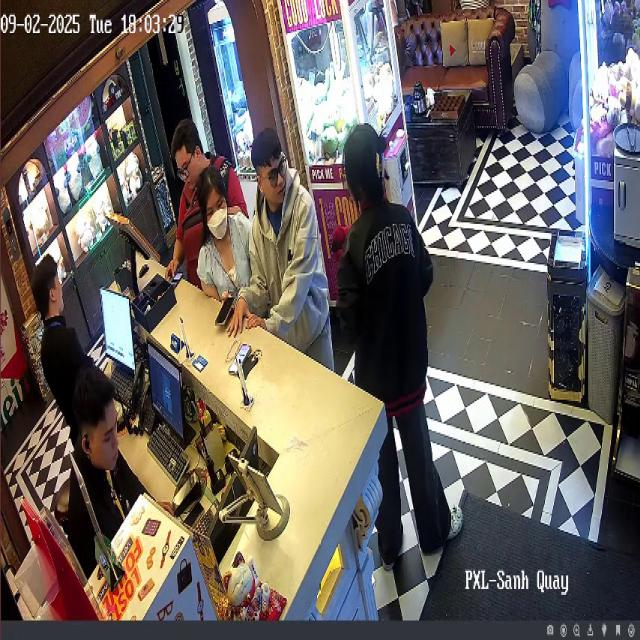khach: (332, 104, 482, 573), (240, 114, 332, 399), (160, 116, 252, 280), (192, 160, 260, 318)
nhan vien: (64, 361, 143, 583), (30, 238, 101, 461)
